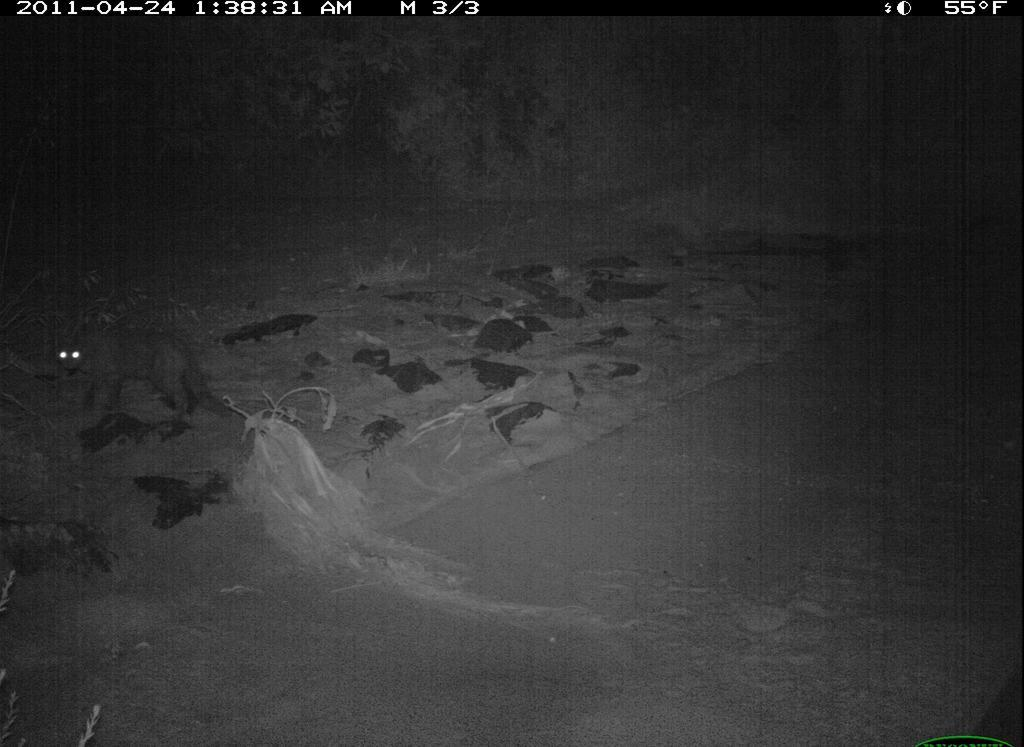cat: (44, 323, 249, 438)
